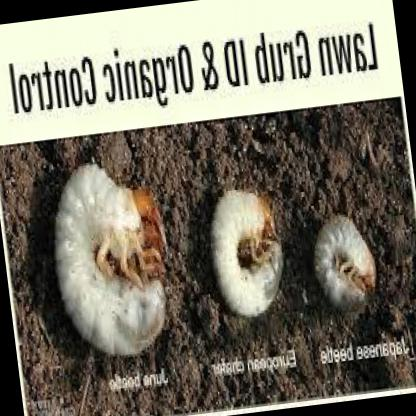root grubs: (54, 158, 166, 356), (212, 192, 284, 321), (313, 210, 376, 313)
